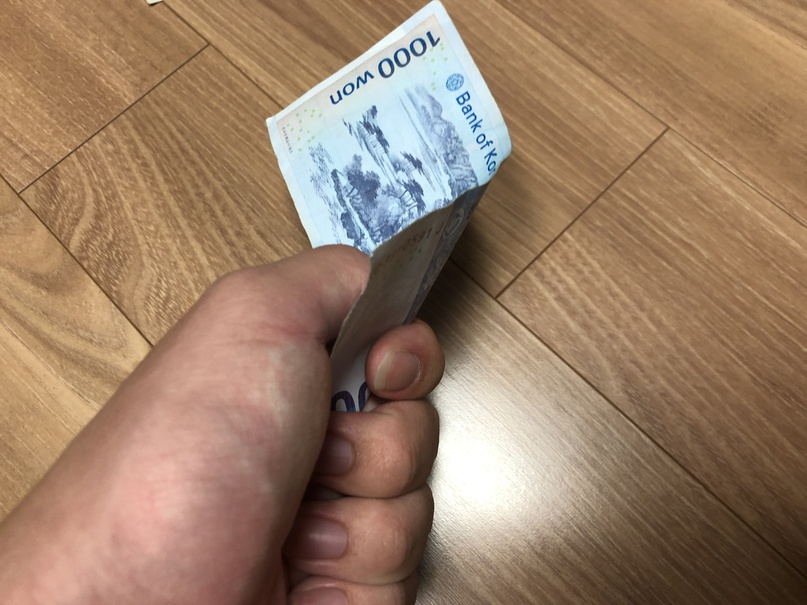1000won: (266, 1, 512, 416)
